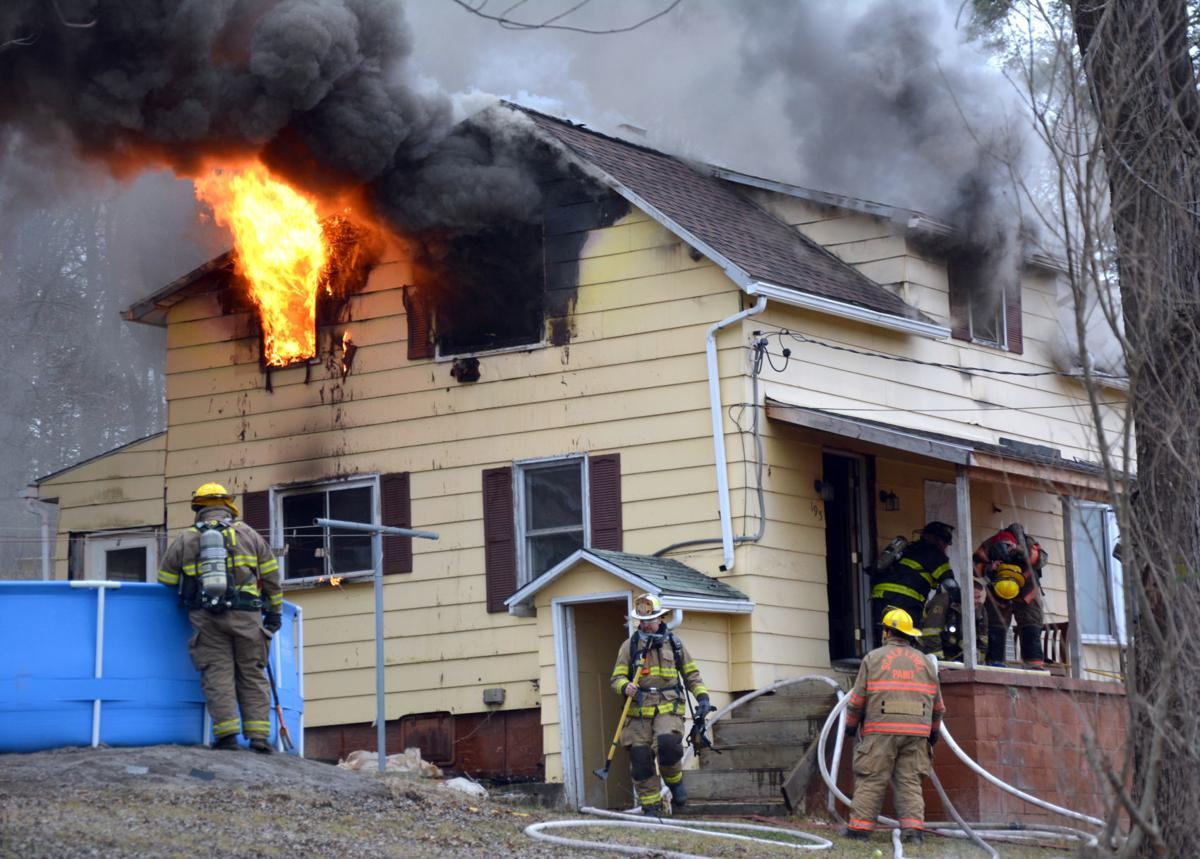smoke: (5, 1, 556, 279), (708, 1, 1121, 327)
